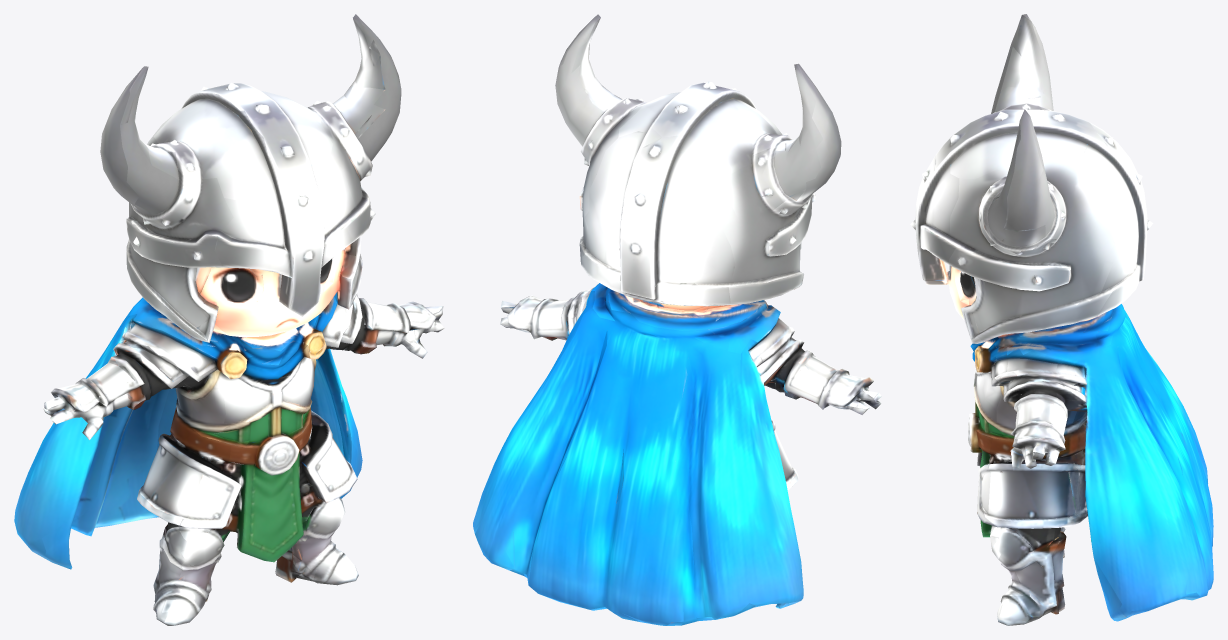
File: chibi2.glb
3 views of the same model, side by side, from view 1: azimuth 30°, elevation 25°; view 2: azimuth 150°, elevation 25°; view 3: azimuth 270°, elevation 25° (orthographic). The views are drawn at different scales.
Visible parts, largest first — view 1: char1; view 2: char1; view 3: char1.
Part boxes in pixels (x1,y1,x2,y2): char1: (14, 14, 444, 625); char1: (473, 14, 881, 625); char1: (910, 14, 1213, 625).
Size of the model in its own units: 143 by 190 by 100.
1 material, 1 textured.
